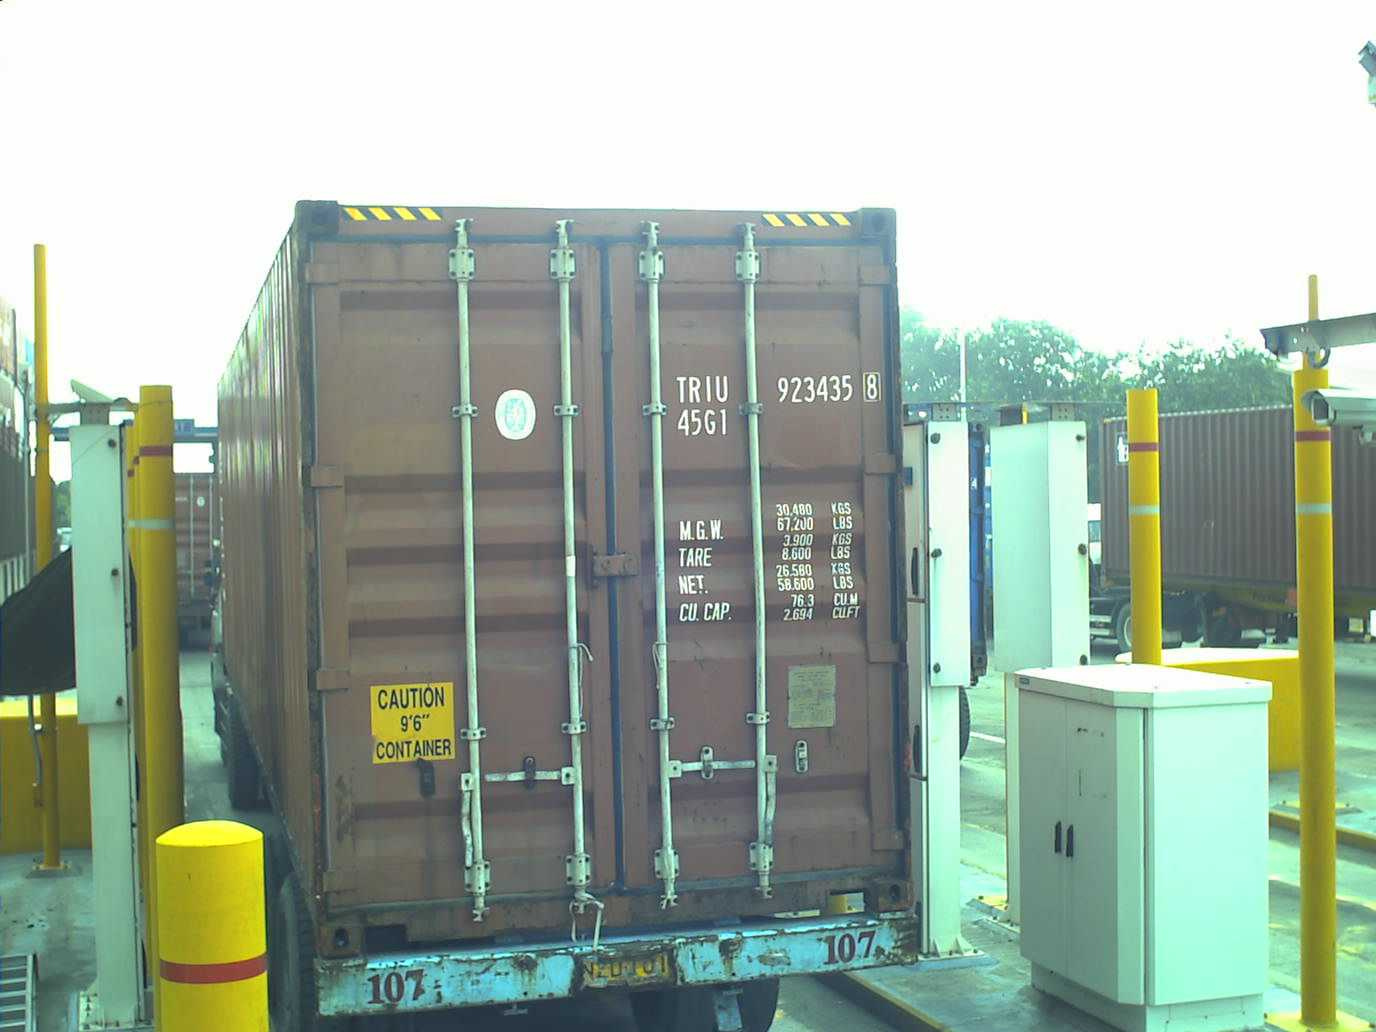container_door: (285, 188, 916, 933)
